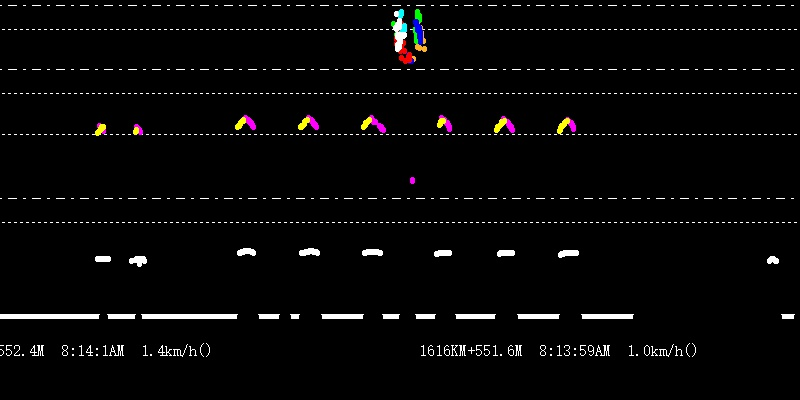J: (390, 2, 434, 64)
y_p: (220, 109, 588, 268)
